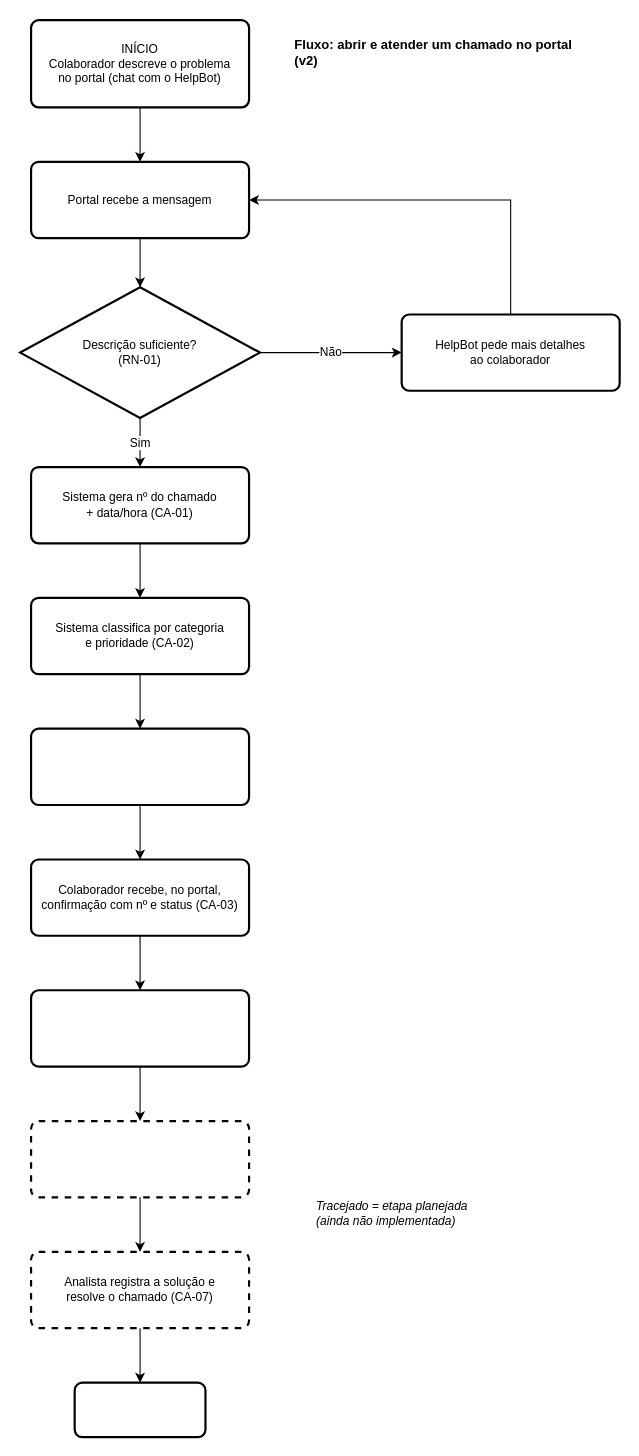
Image size: 639x1456. Some labels were removed from this diagram. The shapes that lost their labels are listed below. From the top down, each one's centre as x and y in pixels, then its label:
At pixel 139 766: "Direciona para a fila correta (CA-02)".
At pixel 139 1028: "Analista assume o chamado Status: Em atendimento (CA-04)".
At pixel 139 1158: "Colaborador e analista conversam dentro do chamado (CA-05, CA-06)".
At pixel 139 1409: "FIM".
